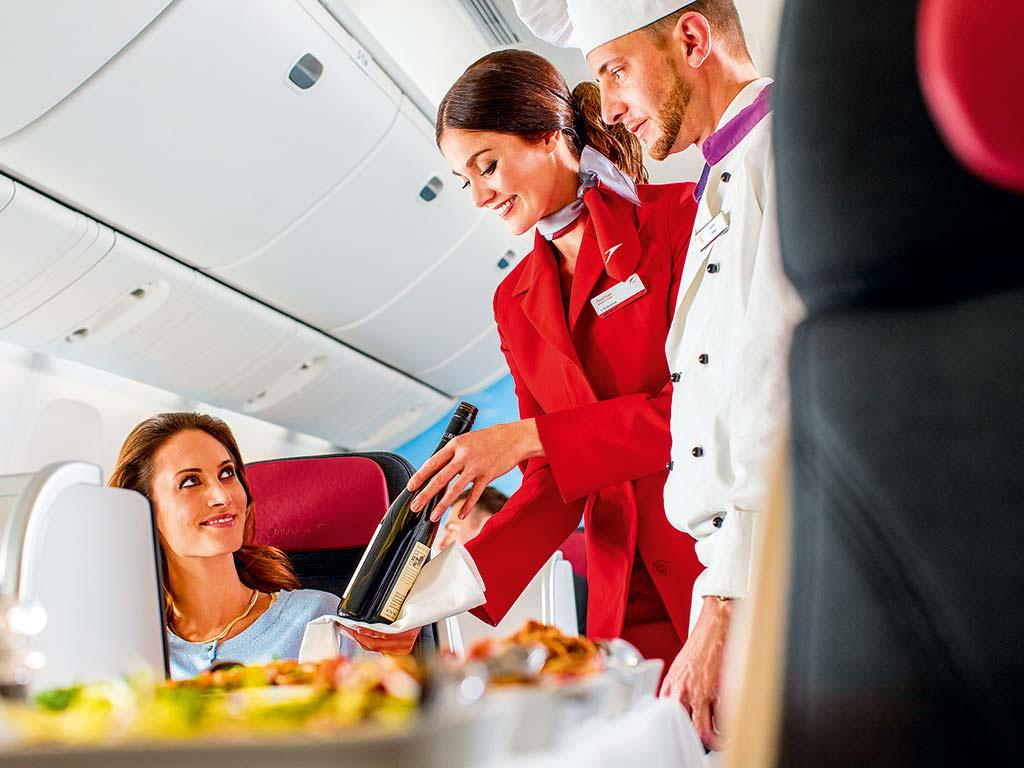face: (584, 28, 684, 160), (436, 128, 548, 236), (150, 432, 248, 554)
